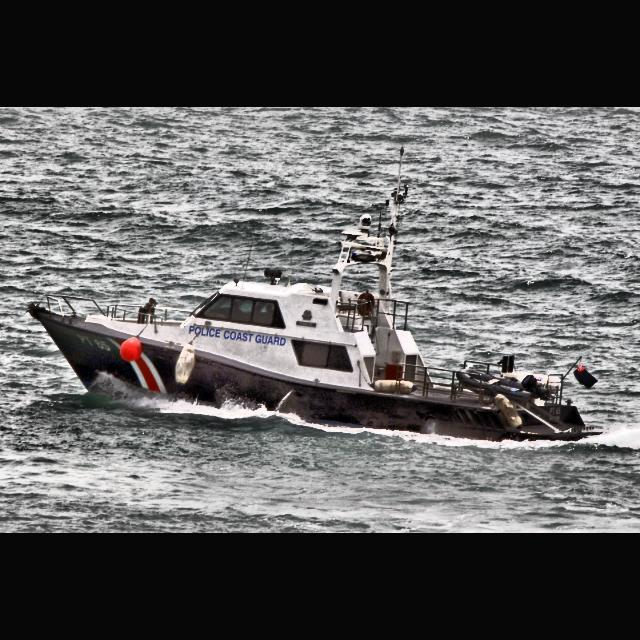patrol_vessel: (26, 213, 614, 449)
